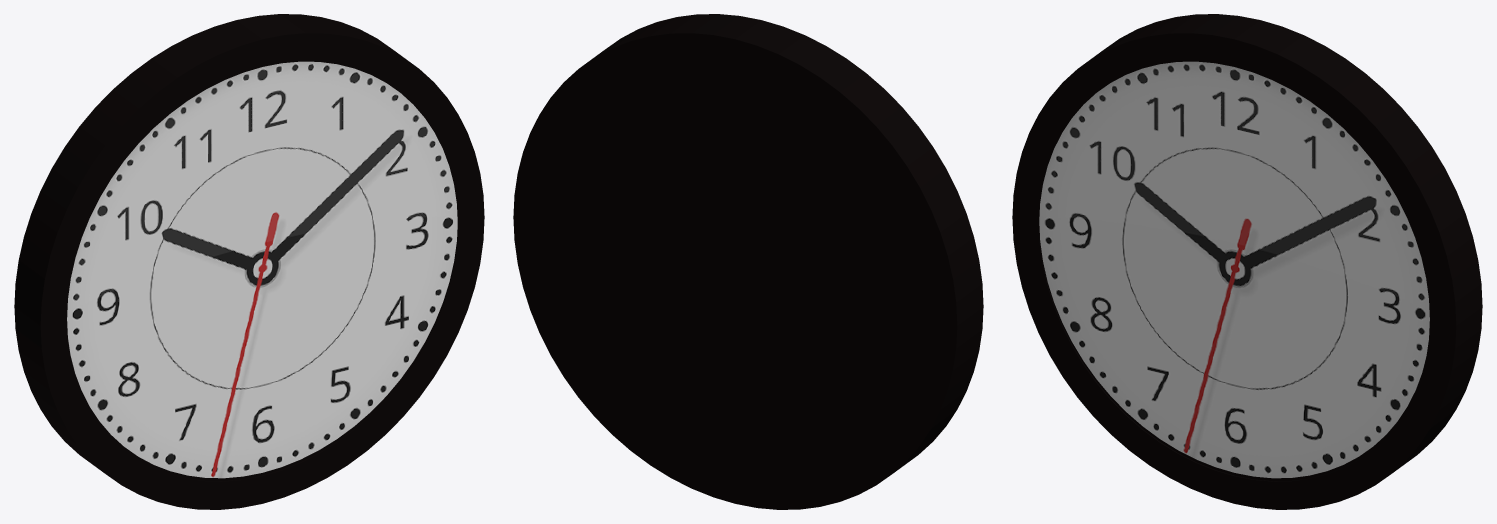
The model's file is Clock.fbx.
3 renders of one model, left to right at view 1: azimuth 30°, elevation 25°; view 2: azimuth 150°, elevation 25°; view 3: azimuth 330°, elevation 25°, orthographic.
Visible parts, largest first — view 1: Cylinder; view 2: Cylinder; view 3: Cylinder.
Part boxes in pixels (left/top/right/bottom): Cylinder: left=14, top=14, right=484, bottom=509; Cylinder: left=513, top=14, right=983, bottom=509; Cylinder: left=1012, top=14, right=1482, bottom=509.
Bounding box in the file's own units: 200 × 200 × 20.45.
2 materials, 1 textured.
